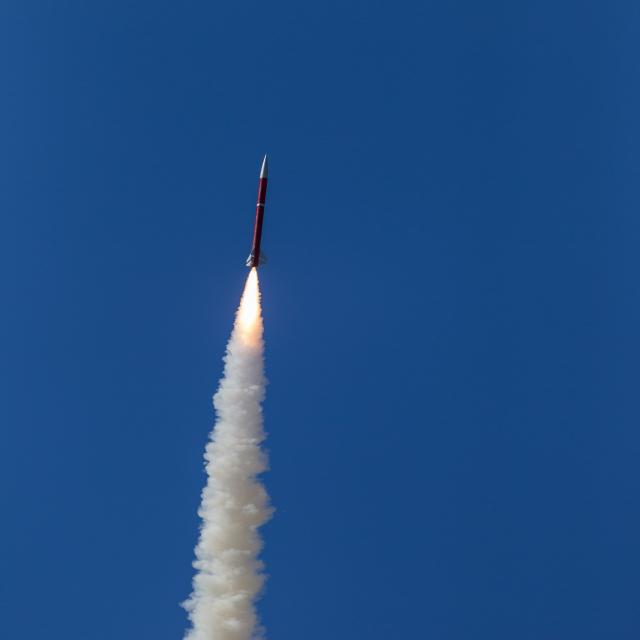Rocket: (245, 154, 270, 269)
